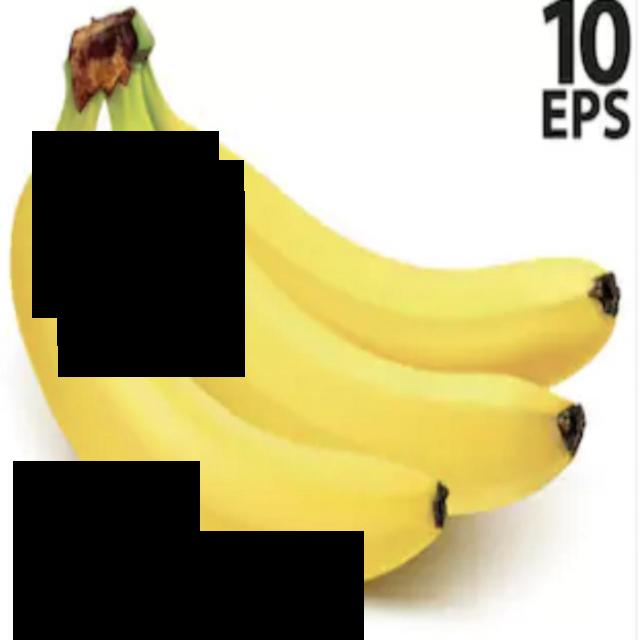banana: (0, 89, 494, 630), (89, 148, 638, 527)
